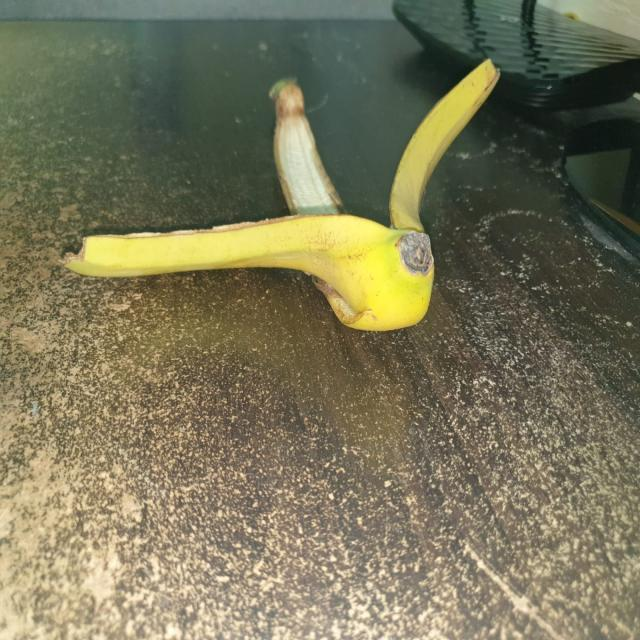banana-peel: (63, 56, 501, 333)
